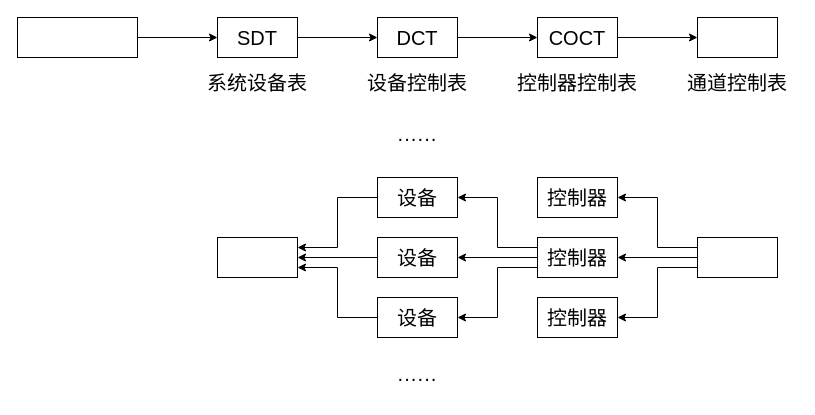
Some shapes in this 815 by 415 pixel diagram are drawn without their labels. Each missing label, with the centre of its shape:
"CHCT" belongs at [737,37].
"物理设备名" belongs at [77,37].
"系统" belongs at [257,257].
"通道" belongs at [737,257].
